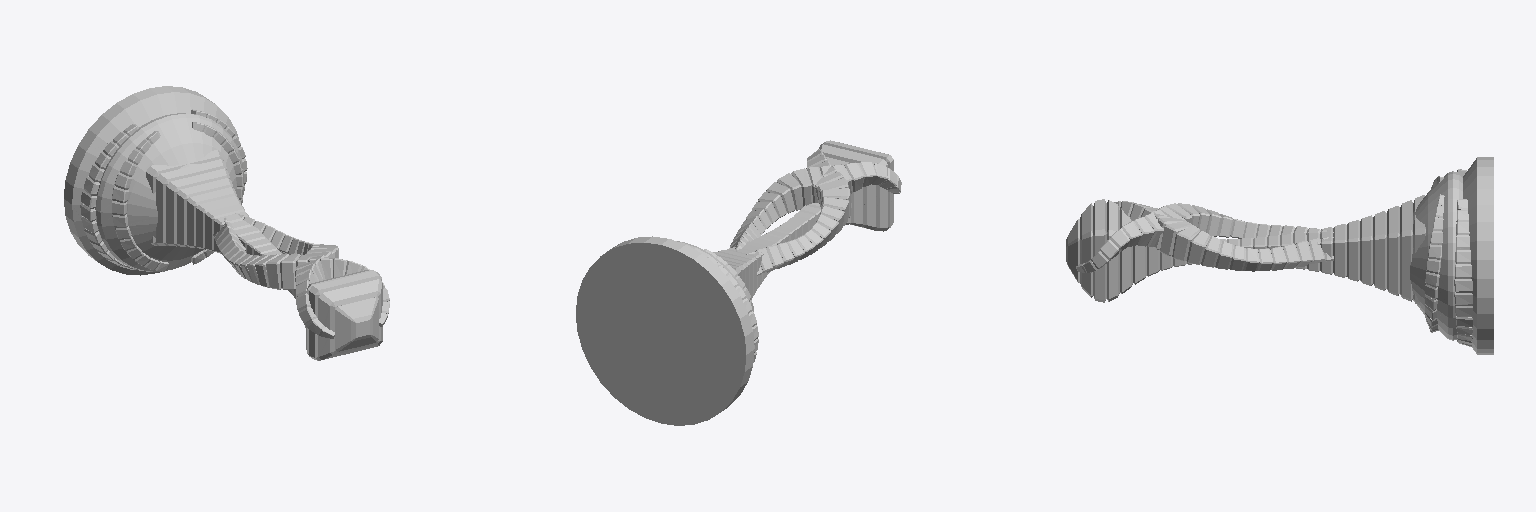
File: Alien-King.obj
3 renders of one model, left to right at view 1: azimuth 30°, elevation 25°; view 2: azimuth 150°, elevation 25°; view 3: azimuth 270°, elevation 25°, orthographic.
Bounding box in the file's own units: 37.25 × 37.25 × 80.76.